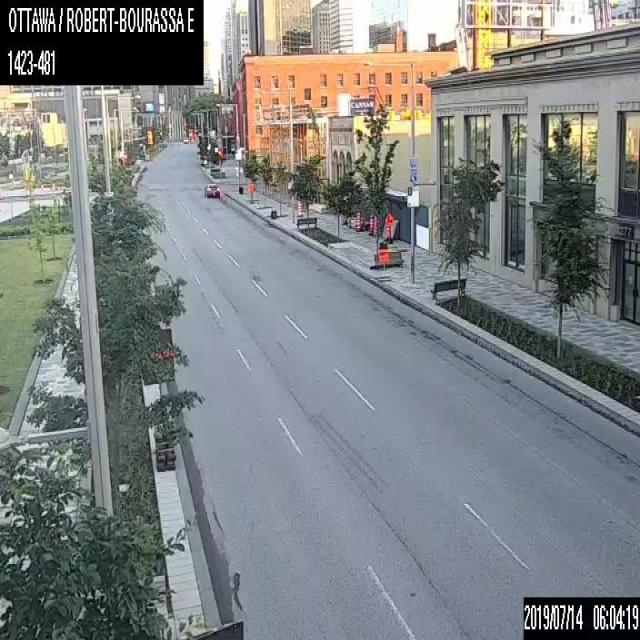construction: (142, 328, 176, 470), (377, 247, 389, 280), (383, 213, 392, 243), (353, 210, 362, 230), (368, 214, 376, 234), (247, 181, 254, 203), (296, 200, 301, 216)
vehicle: (203, 183, 219, 197)
